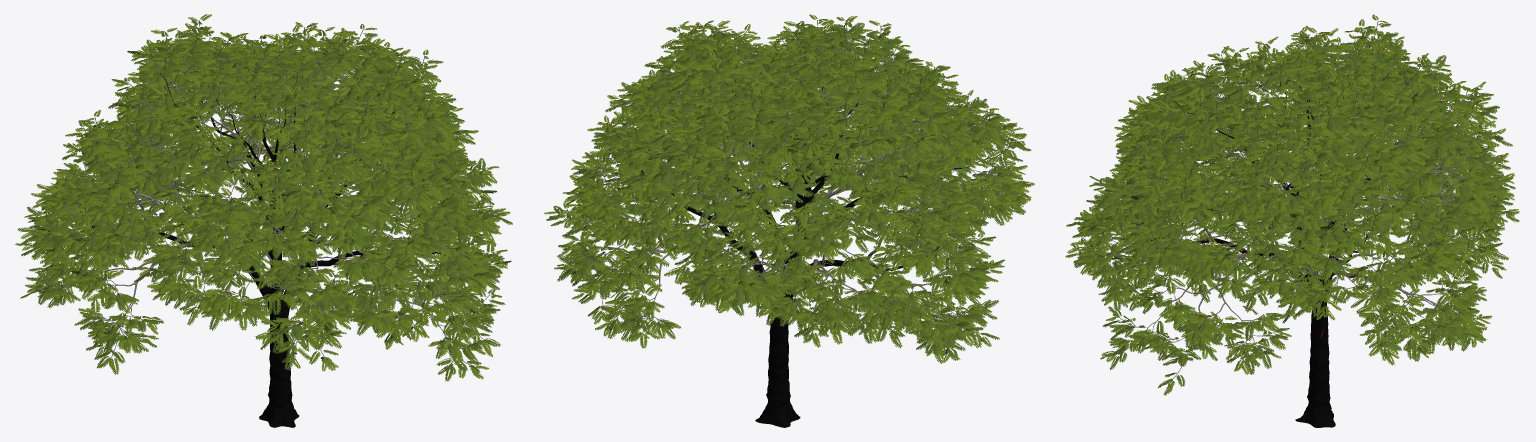
Rendered from Jacaranda mimosifolia HD_Urban summer mat 75_LOD0.fbx.
The picture shows the model from 3 angles, left to right: view 1: azimuth 30°, elevation 25°; view 2: azimuth 150°, elevation 25°; view 3: azimuth 270°, elevation 25°; orthographic projection. The views are drawn at different scales.
Parts seen in each view (by area): view 1: Jacaranda_mimosifolia_HD; view 2: Jacaranda_mimosifolia_HD; view 3: Jacaranda_mimosifolia_HD.
Part boxes in pixels (box(x1,y1,x2,y2)): Jacaranda_mimosifolia_HD: box(15, 14, 512, 427); Jacaranda_mimosifolia_HD: box(544, 14, 1034, 427); Jacaranda_mimosifolia_HD: box(1065, 14, 1519, 427).
Bounding box in the file's own units: 8.43 × 7.12 × 8.16.
